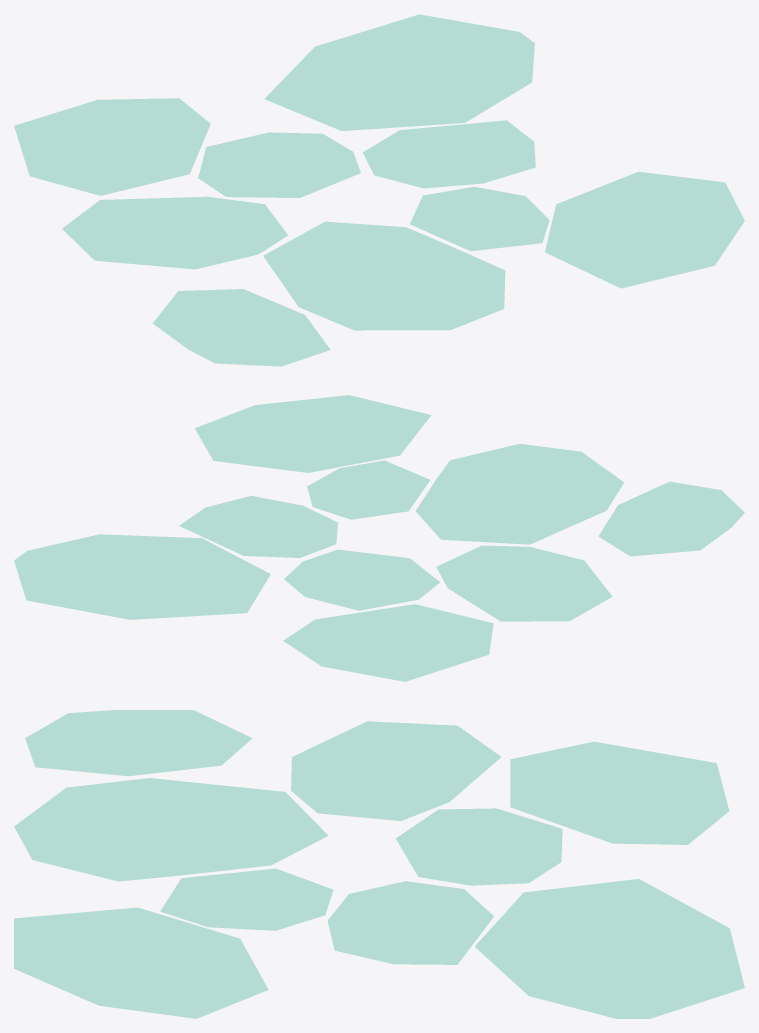
Rendered from water_poeltjes_los.fbx.
The picture shows the model from 3 angles, top to bottom: view 1: azimuth 30°, elevation 25°; view 2: azimuth 150°, elevation 25°; view 3: azimuth 270°, elevation 25°; orthographic projection. The views are drawn at different scales.
Visible parts, largest first — view 1: waterpoel1, waterpoel9, waterpoel3, waterpoel6, waterpoel7, waterpoel8, waterpoel2, waterpoel5, waterpoel4; view 2: waterpoel1, waterpoel9, waterpoel3, waterpoel6, waterpoel7, waterpoel8, waterpoel2, waterpoel5, waterpoel4; view 3: waterpoel1, waterpoel9, waterpoel3, waterpoel6, waterpoel7, waterpoel8, waterpoel2, waterpoel5, waterpoel4.
Boxes of the visible parts, x1,y1,x2,y2 form: waterpoel1: (265, 14, 534, 130); waterpoel9: (263, 222, 504, 330); waterpoel3: (545, 172, 744, 288); waterpoel6: (14, 98, 210, 195); waterpoel7: (62, 197, 287, 269); waterpoel8: (153, 289, 330, 366); waterpoel2: (363, 120, 535, 188); waterpoel5: (198, 132, 360, 197); waterpoel4: (410, 187, 549, 250); waterpoel1: (14, 534, 270, 619); waterpoel9: (416, 444, 623, 544); waterpoel3: (195, 395, 430, 472); waterpoel6: (283, 604, 493, 681); waterpoel7: (436, 546, 612, 621); waterpoel8: (599, 482, 744, 555); waterpoel2: (179, 496, 337, 557); waterpoel5: (284, 550, 439, 610); waterpoel4: (307, 460, 429, 519); waterpoel1: (475, 879, 744, 1018); waterpoel9: (14, 778, 327, 881); waterpoel3: (14, 908, 268, 1018); waterpoel6: (510, 742, 728, 844); waterpoel7: (291, 721, 500, 820); waterpoel8: (25, 710, 251, 775); waterpoel2: (328, 881, 493, 964); waterpoel5: (396, 808, 562, 885); waterpoel4: (160, 869, 333, 930).
Size of the model in its own units: 98.48 by 0 by 98.48.
